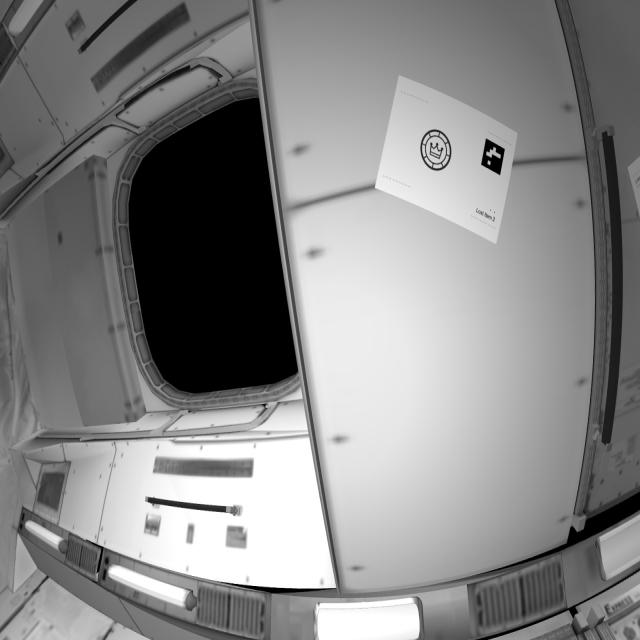coin: (416, 124, 462, 176)
